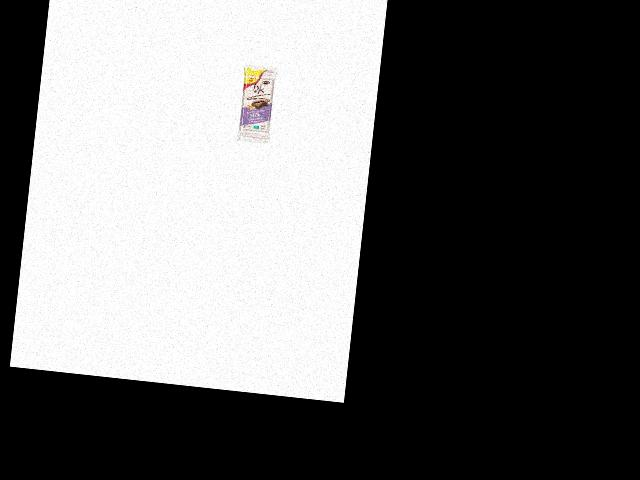chocolate: (233, 62, 281, 145)
